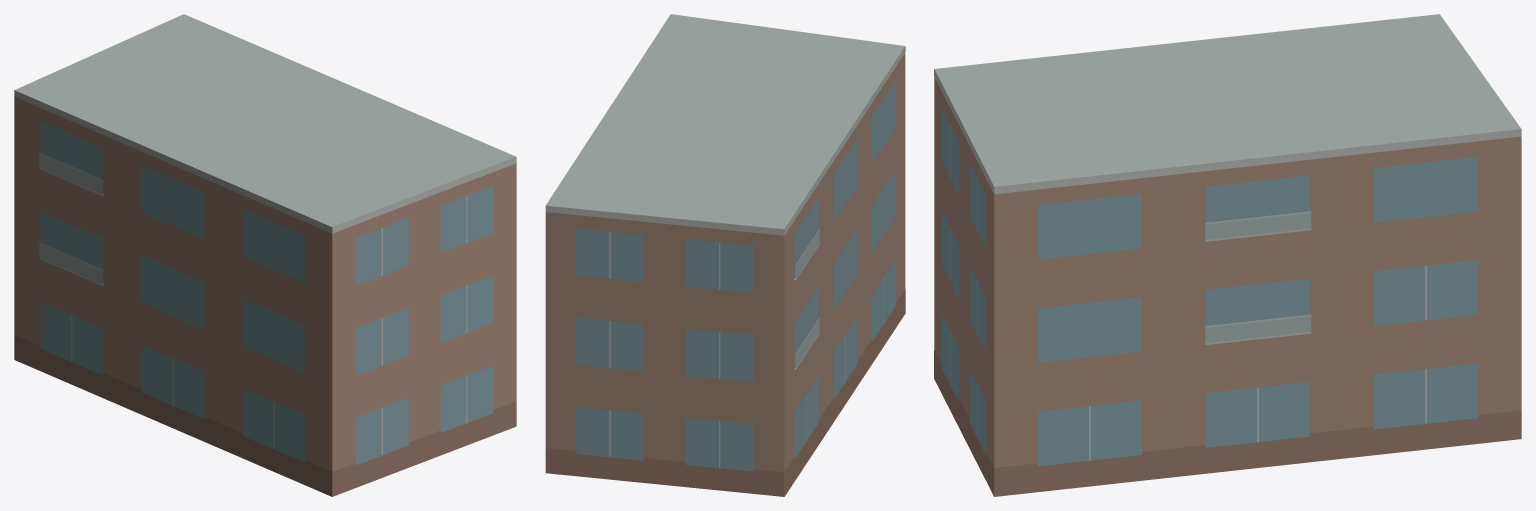
File: survey-upis-32587929.glb
3 views of the same model, side by side, from view 1: azimuth 30°, elevation 25°; view 2: azimuth 150°, elevation 25°; view 3: azimuth 270°, elevation 25° (orthographic). The views are drawn at different scales.
Parts seen in each view (by area): view 1: survey-upis-32587929.tmp; view 2: survey-upis-32587929.tmp; view 3: survey-upis-32587929.tmp.
Part boxes in pixels (x1,y1,x2,y2): survey-upis-32587929.tmp: (14, 14, 516, 496); survey-upis-32587929.tmp: (545, 14, 905, 496); survey-upis-32587929.tmp: (934, 14, 1521, 496).
Bounding box in the file's own units: 12.22 × 10.2 × 17.53.
